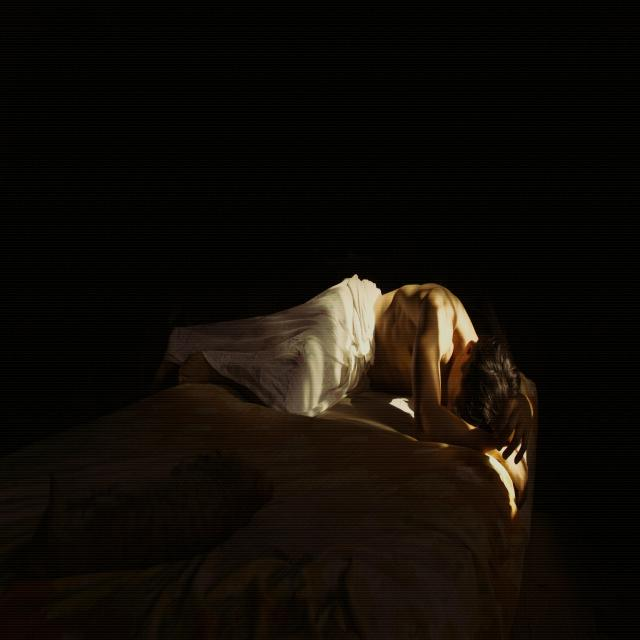lie: (141, 279, 553, 473)
